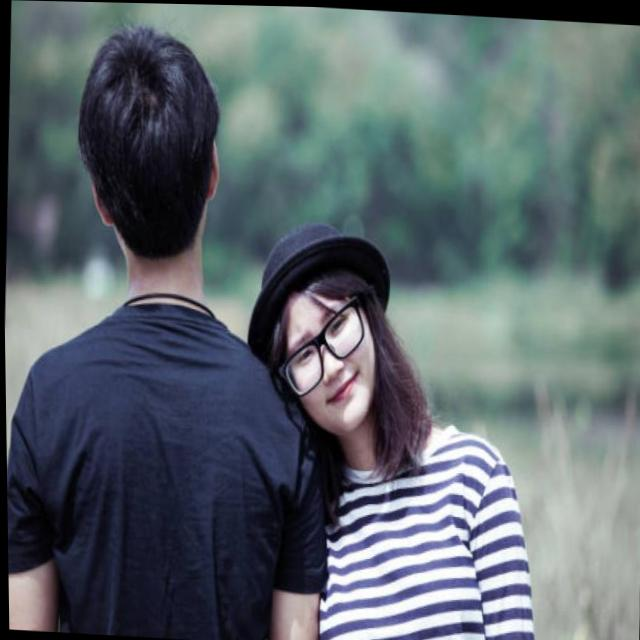no helmet: (70, 26, 229, 285)
